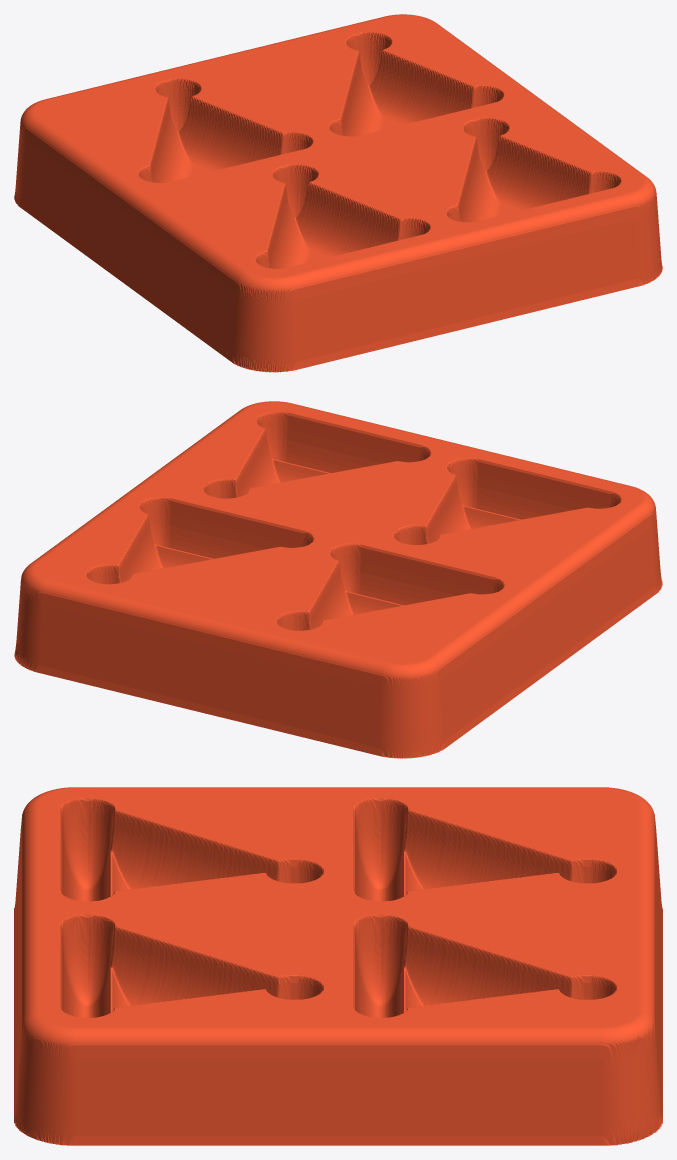
Rendered from mold.glb.
The picture shows the model from 3 angles, top to bottom: view 1: azimuth 30°, elevation 25°; view 2: azimuth 150°, elevation 25°; view 3: azimuth 270°, elevation 25°; orthographic projection. The views are drawn at different scales.
Parts seen in each view (by area): view 1: geometry_0; view 2: geometry_0; view 3: geometry_0.
Boxes of the visible parts, box(x1,y1,x2,y2) form: geometry_0: box(14, 14, 662, 372); geometry_0: box(14, 401, 662, 758); geometry_0: box(14, 787, 662, 1145).
Size of the model in its own units: 0.09 by 0.0175 by 0.0952.
